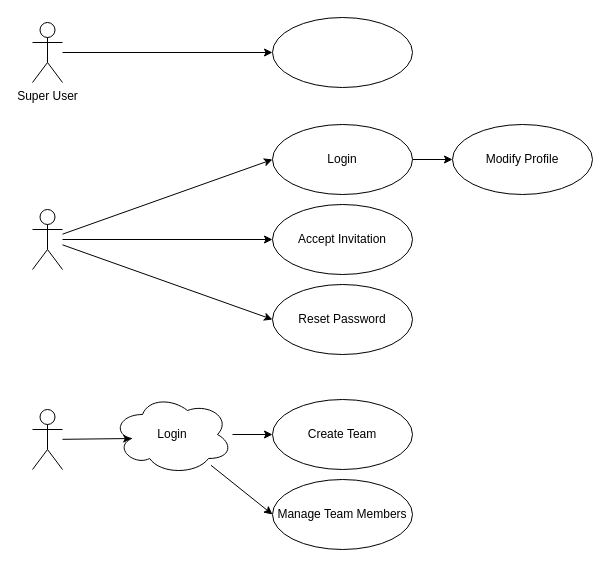
Image size: 610x567. Some labels were removed from this diagram. Each missing label, with the box of its shape:
All Users: (32, 208, 62, 270)
Consultant: (32, 408, 62, 470)
Invite Users: (272, 16, 412, 88)
